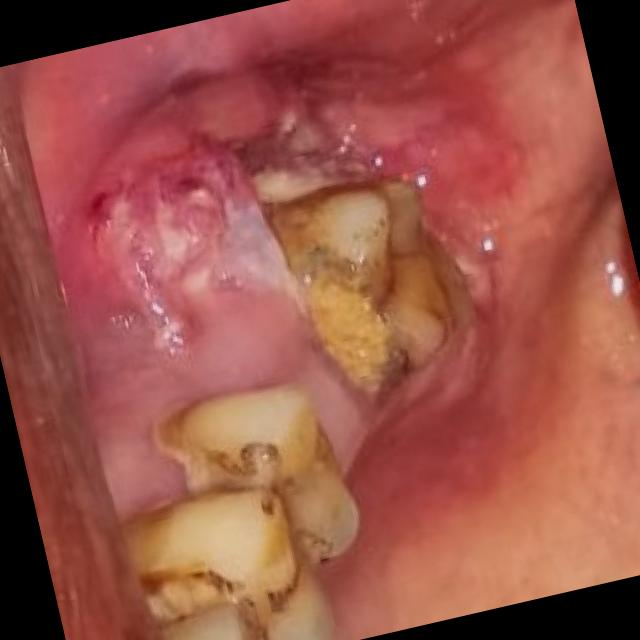Cancer: (64, 114, 281, 368), (226, 13, 448, 212)
